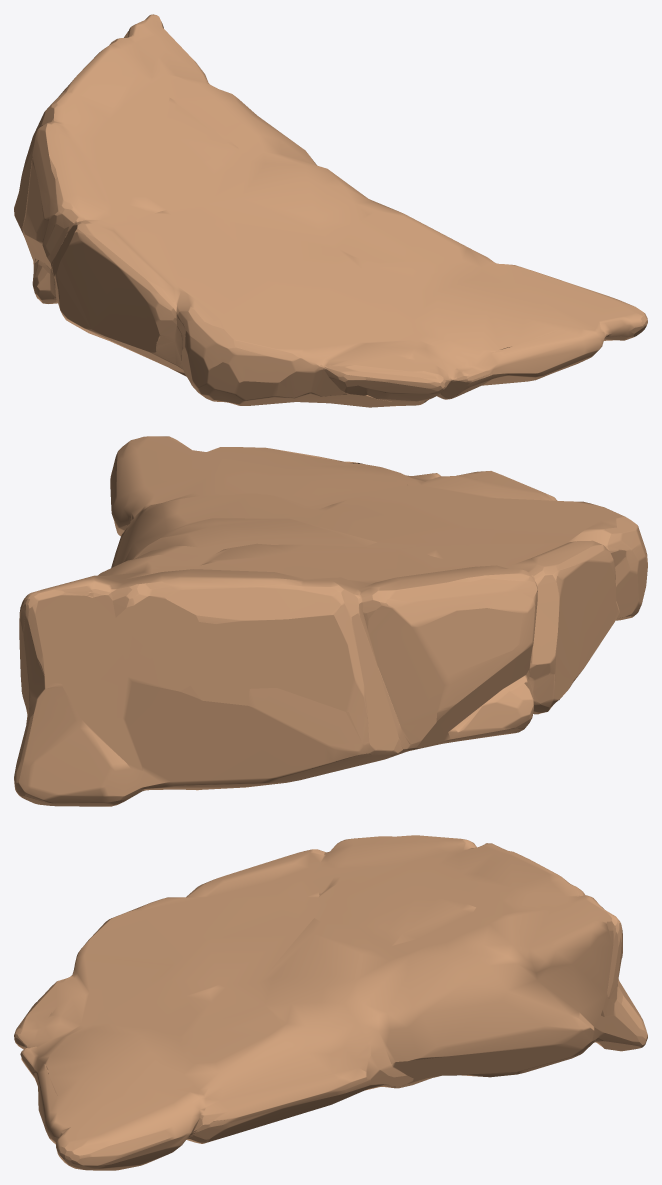
3 renders of one model, top to bottom at view 1: azimuth 30°, elevation 25°; view 2: azimuth 150°, elevation 25°; view 3: azimuth 270°, elevation 25°, orthographic. The views are drawn at different scales.
Visible parts, largest first — view 1: Mesh_27_LOD0; view 2: Mesh_27_LOD0; view 3: Mesh_27_LOD0.
Boxes of the visible parts, <box> form: Mesh_27_LOD0: <box>14,14,647,407</box>; Mesh_27_LOD0: <box>14,436,647,806</box>; Mesh_27_LOD0: <box>14,835,647,1170</box>.
Size of what is drawn, in the model's own units: 2809 by 1118 by 3508.
